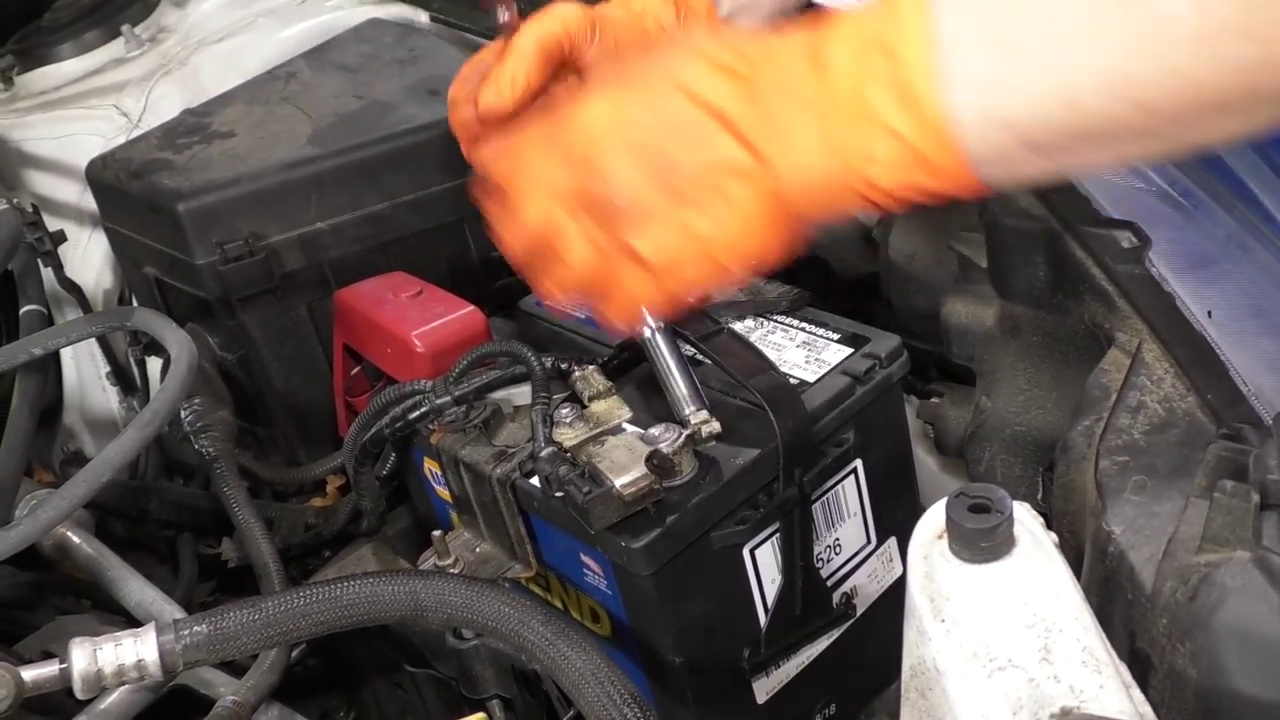battery: (379, 264, 904, 532)
neg_connected: (582, 407, 714, 511)
pos_connected: (295, 264, 501, 425)
